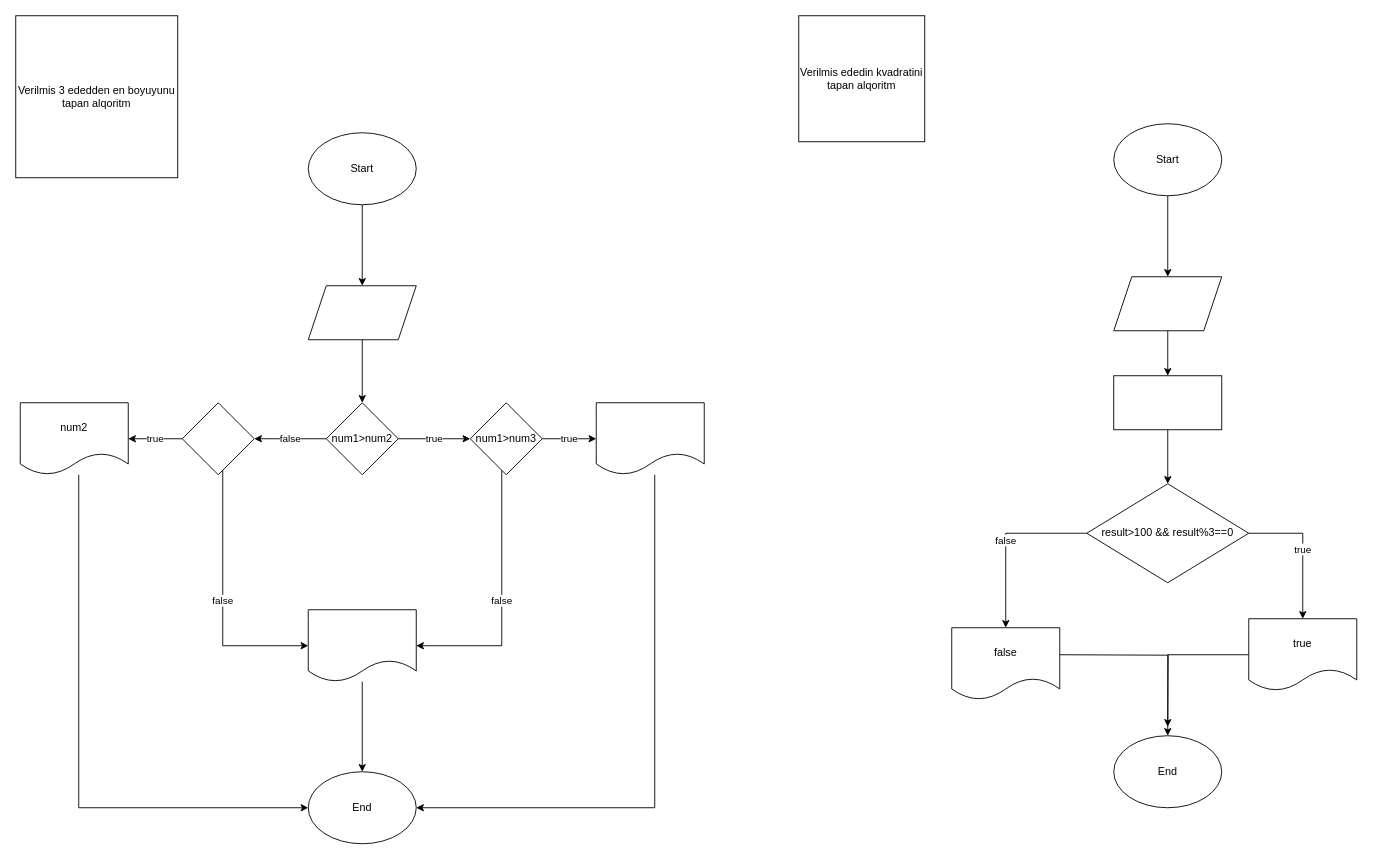
This 1373x860 diagram has some shape labels left out. The shapes that lost their labels are listed below. From the top down, each one's centre as x and y in pixels, then its label:
(361,312): num1,num2,num3
(1167,303): num
(1167,402): result = num*num
(217,438): num2>num3
(649,438): num1
(361,645): num3
